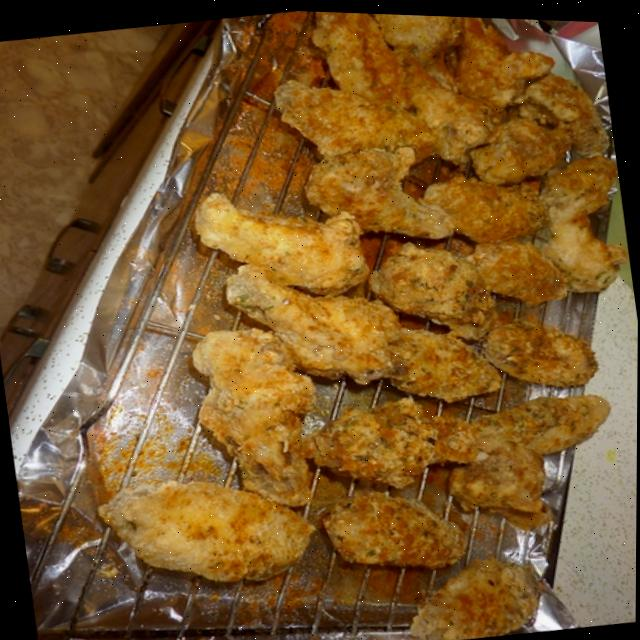鸡肉料理 含炸鸡: (23, 1, 640, 640)
